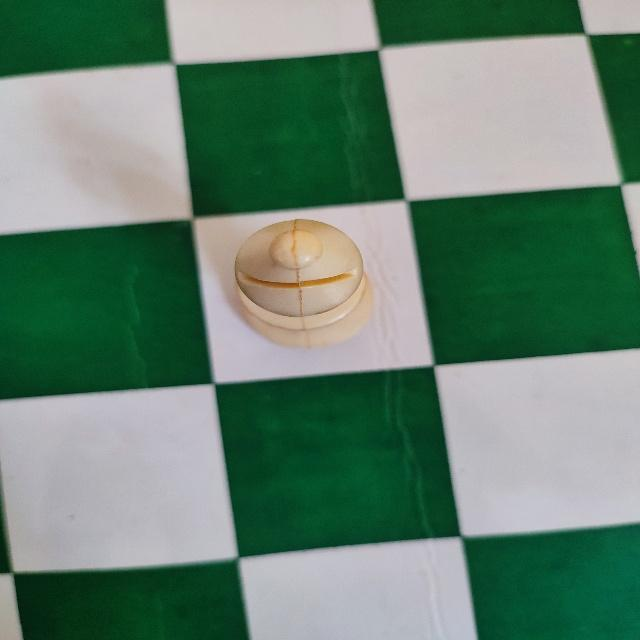Bishop: (230, 214, 382, 352)
